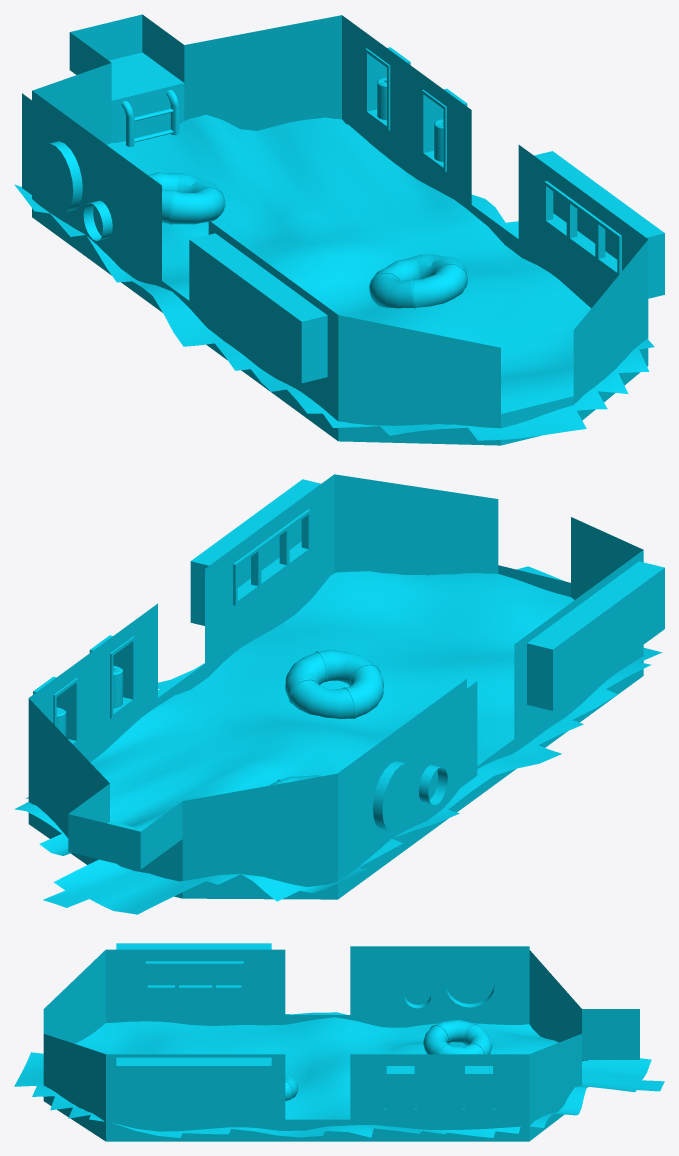
Rendered from StanzaPiscina.fbx.
3 views of the same model, one above another, from view 1: azimuth 30°, elevation 25°; view 2: azimuth 150°, elevation 25°; view 3: azimuth 270°, elevation 25° (orthographic). The views are drawn at different scales.
Visible parts, largest first — view 1: polySurface47, Acqua, polySurface14, polySurface42, MuroCerchio, polySurface13, Canotto2, Canotto1, Finestra2, scala1:scalapozzoassets_stanza_reattorepolySurface11; view 2: polySurface47, Acqua, polySurface14, polySurface42, MuroCerchio, Canotto2, polySurface13, Finestra2; view 3: polySurface47, Acqua, MuroCerchio, polySurface13, polySurface14, polySurface42, Canotto1, Finestra1.
Part boxes in pixels (left/top/right/bottom): polySurface47: left=32, top=14, right=648, bottom=445; Acqua: left=14, top=114, right=654, bottom=440; polySurface14: left=189, top=233, right=327, bottom=383; polySurface42: left=22, top=93, right=151, bottom=282; MuroCerchio: left=32, top=90, right=161, bottom=280; polySurface13: left=534, top=151, right=664, bottom=298; Canotto2: left=369, top=254, right=467, bottom=308; Canotto1: left=148, top=172, right=225, bottom=224; Finestra2: left=544, top=181, right=621, bottom=276; scala1:scalapozzoassets_stanza_reattorepolySurface11: left=121, top=90, right=179, bottom=146; polySurface47: left=28, top=474, right=643, bottom=899; Acqua: left=14, top=566, right=662, bottom=914; polySurface14: left=527, top=561, right=664, bottom=710; polySurface42: left=347, top=681, right=477, bottom=870; MuroCerchio: left=338, top=679, right=466, bottom=867; Canotto2: left=285, top=650, right=383, bottom=718; polySurface13: left=190, top=479, right=320, bottom=625; Finestra2: left=233, top=509, right=310, bottom=605; polySurface47: left=43, top=949, right=639, bottom=1141; Acqua: left=14, top=1012, right=664, bottom=1138; MuroCerchio: left=350, top=949, right=529, bottom=1023; polySurface13: left=116, top=1057, right=271, bottom=1108; polySurface14: left=116, top=943, right=271, bottom=985; polySurface42: left=350, top=946, right=529, bottom=1004; Canotto1: left=423, top=1019, right=492, bottom=1054; Finestra1: left=145, top=961, right=243, bottom=989.
Size of the model in its own units: 3.94 by 1.26 by 8.52.
